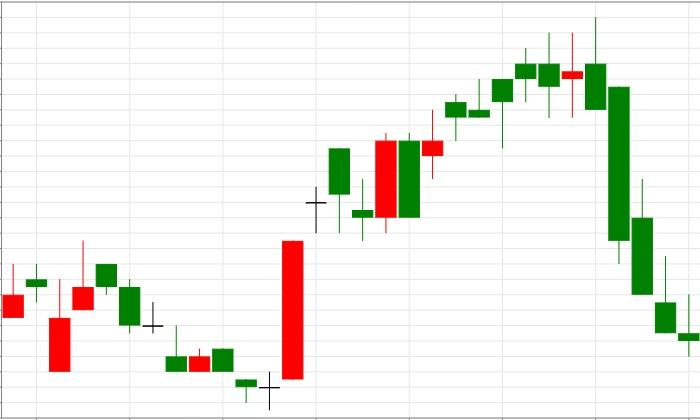morning_star_rise: (95, 240, 305, 411)
